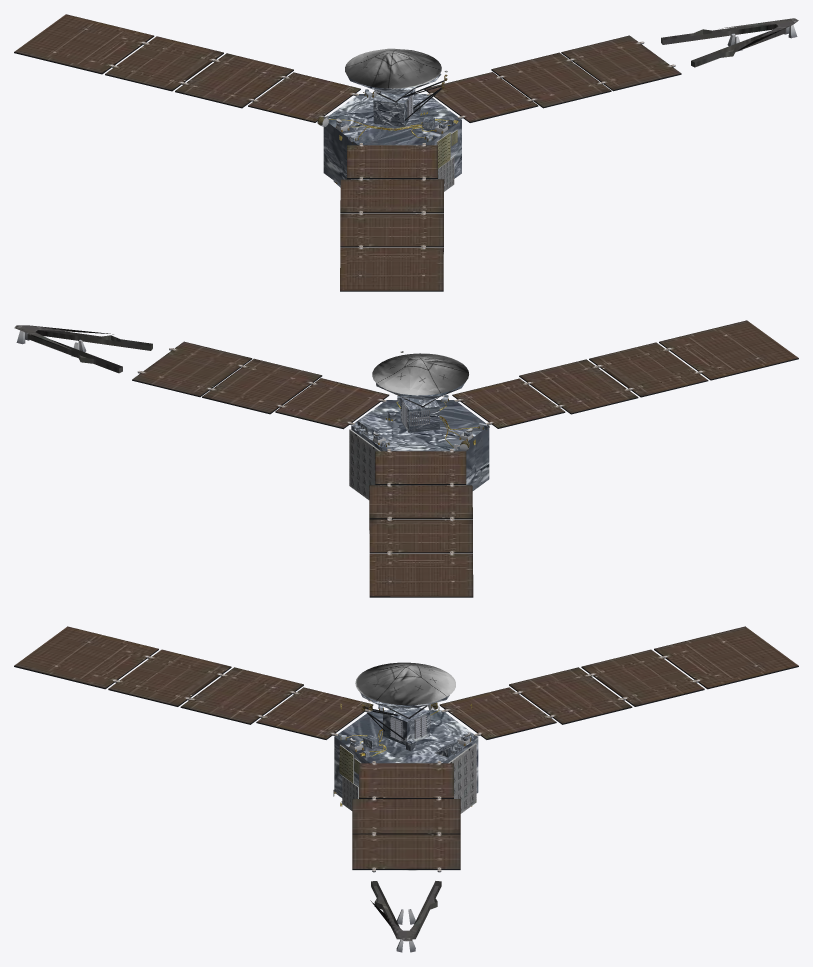
The model's file is juno-preview.glb.
3 views of the same model, one above another, from view 1: azimuth 30°, elevation 25°; view 2: azimuth 150°, elevation 25°; view 3: azimuth 270°, elevation 25° (orthographic). The views are drawn at different scales.
Parts seen in each view (by area): view 1: shiny_panels_Geometry-Body.021, dish_bottom_Geometry-Mesh, dish_top_Geometry-Mesh.002, black_krinkle_Geometry-Body.007, solar_panels_Geometry-Body.006, tex_01_Geometry-Body.003; view 2: shiny_panels_Geometry-Body.021, dish_bottom_Geometry-Mesh, dish_top_Geometry-Mesh.002, tex_01_Geometry-Body.003, solar_panels_Geometry-Body.006, black_krinkle_Geometry-Body.007; view 3: shiny_panels_Geometry-Body.021, dish_bottom_Geometry-Mesh, tex_01_Geometry-Body.003, dish_top_Geometry-Mesh.002, black_krinkle_Geometry-Body.007, solar_panels_Geometry-Body.006.
Boxes of the visible parts, box(x1,y1,x2,y2) form: shiny_panels_Geometry-Body.021: box(14, 14, 681, 290); dish_bottom_Geometry-Mesh: box(323, 73, 461, 187); dish_top_Geometry-Mesh.002: box(345, 48, 441, 88); black_krinkle_Geometry-Body.007: box(14, 36, 681, 291); solar_panels_Geometry-Body.006: box(340, 18, 798, 253); tex_01_Geometry-Body.003: box(110, 25, 797, 248); shiny_panels_Geometry-Body.021: box(132, 320, 798, 596); dish_bottom_Geometry-Mesh: box(351, 383, 489, 490); dish_top_Geometry-Mesh.002: box(372, 353, 468, 395); tex_01_Geometry-Body.003: box(16, 330, 702, 554); solar_panels_Geometry-Body.006: box(14, 325, 465, 533); black_krinkle_Geometry-Body.007: box(132, 342, 798, 597); shiny_panels_Geometry-Body.021: box(14, 626, 798, 868); dish_bottom_Geometry-Mesh: box(334, 692, 478, 797); tex_01_Geometry-Body.003: box(112, 655, 699, 952); dish_top_Geometry-Mesh.002: box(355, 662, 455, 705); black_krinkle_Geometry-Body.007: box(14, 649, 798, 869); solar_panels_Geometry-Body.006: box(352, 870, 460, 941).
Size of the model in its own units: 17.61 by 3.75 by 18.54.
9 materials, 9 textured.
